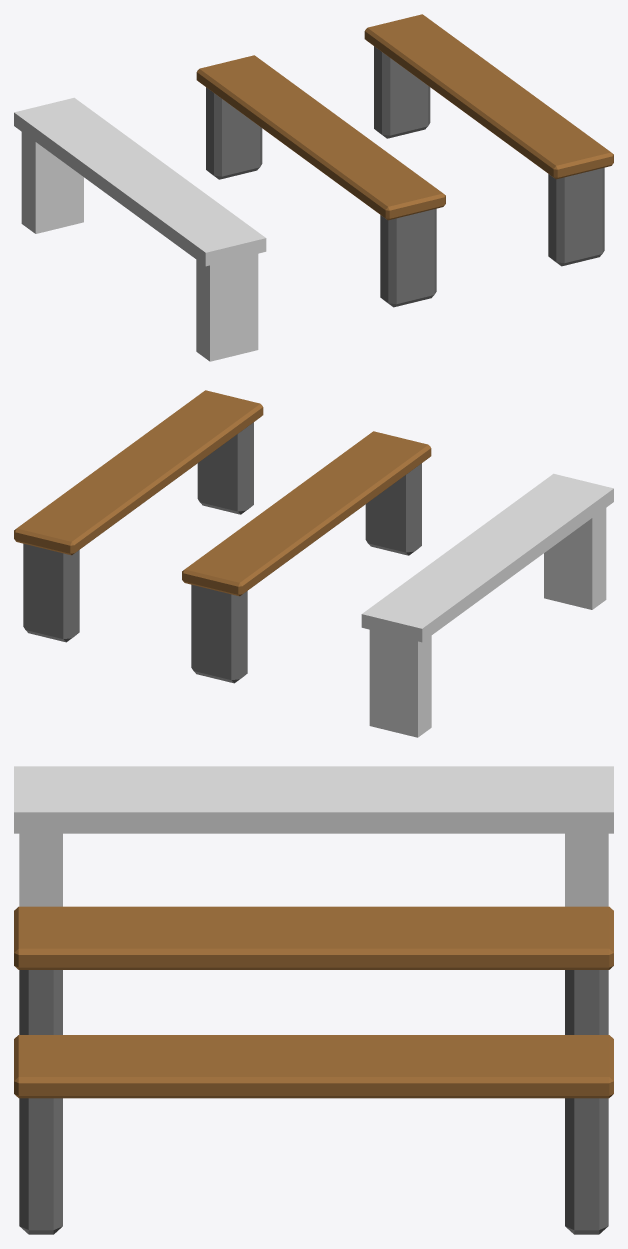
The model's file is Bench v2.1.fbx.
3 renders of one model, top to bottom at view 1: azimuth 30°, elevation 25°; view 2: azimuth 150°, elevation 25°; view 3: azimuth 270°, elevation 25°, orthographic. The views are drawn at different scales.
Visible parts, largest first — view 1: Cube.006, Cube.003, Cube.002, Cube.004, Cube.001, Cube.005, Cube; view 2: Cube.006, Cube.003, Cube.002, Cube.005, Cube, Cube.004, Cube.001; view 3: Cube.006, Cube.003, Cube.002, Cube.004, Cube.005, Cube, Cube.001.
Boxes of the visible parts, x1=… form: Cube.006: x1=364, y1=14, x2=613, y2=266; Cube.003: x1=14, y1=97, x2=266, y2=266; Cube.002: x1=196, y1=55, x2=445, y2=220; Cube.004: x1=196, y1=253, x2=258, y2=361; Cube.001: x1=380, y1=208, x2=436, y2=307; Cube.005: x1=21, y1=132, x2=83, y2=233; Cube: x1=206, y1=87, x2=262, y2=179; Cube.006: x1=14, y1=390, x2=263, y2=642; Cube.003: x1=361, y1=473, x2=613, y2=642; Cube.002: x1=182, y1=431, x2=431, y2=596; Cube.005: x1=369, y1=629, x2=431, y2=737; Cube: x1=191, y1=584, x2=247, y2=683; Cube.004: x1=544, y1=508, x2=606, y2=609; Cube.001: x1=365, y1=463, x2=421, y2=555; Cube.006: x1=14, y1=1035, x2=613, y2=1234; Cube.003: x1=14, y1=766, x2=613, y2=833; Cube.002: x1=14, y1=906, x2=613, y2=969; Cube.004: x1=19, y1=833, x2=62, y2=906; Cube.005: x1=565, y1=833, x2=608, y2=906; Cube: x1=565, y1=970, x2=608, y2=1034; Cube.001: x1=19, y1=970, x2=62, y2=1034.
Size of the model in its own units: 1356 by 353 by 1100.
